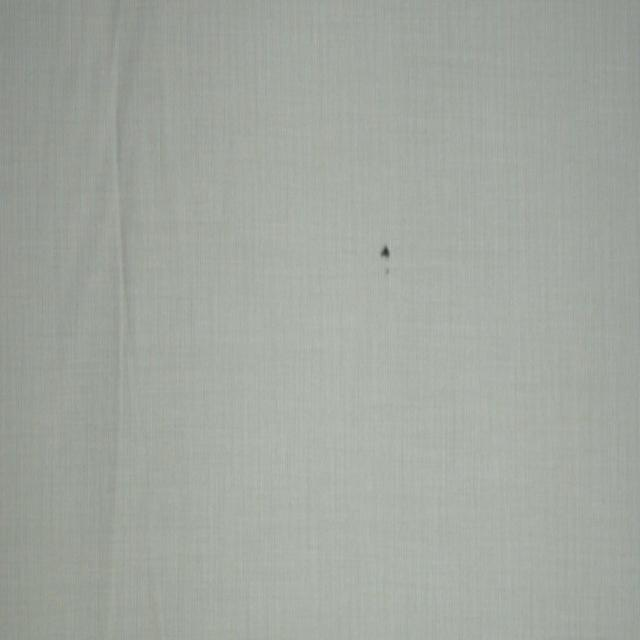dirty: (380, 243, 391, 273)
